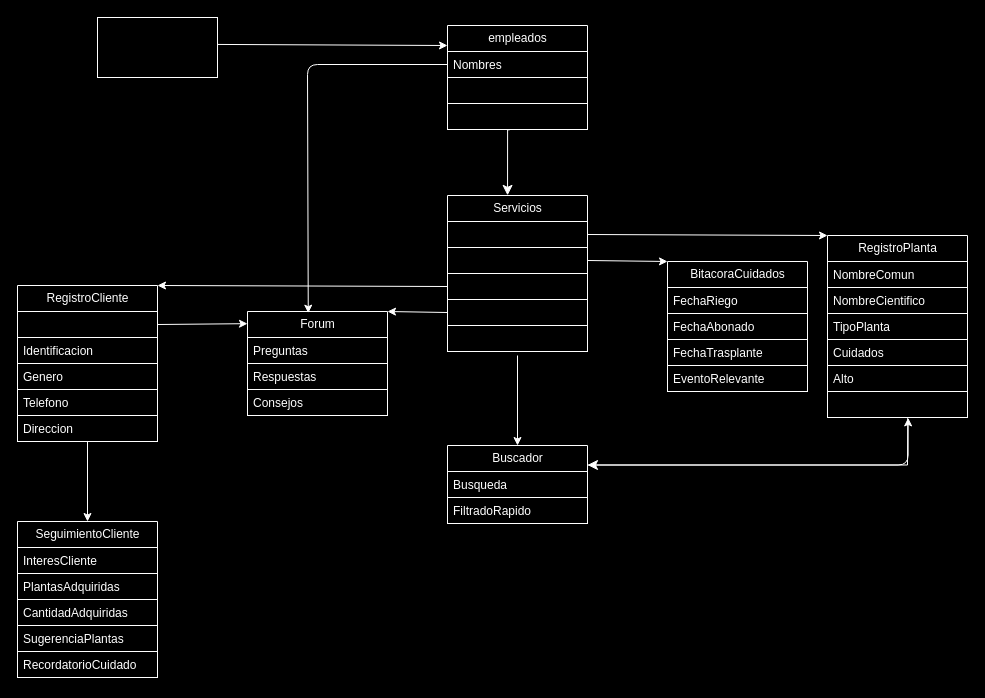
Image size: 985x698. Some labels were removed from this diagram. Each missing label, with the centre of its shape:
Ancho: the point at 897,404
Cargos: the point at 517,116
CategorizacionPlantas: the point at 517,338
Codigos: the point at 517,90
GestionClientes: the point at 517,286
GestionPreguntas: the point at 517,312
IngresarNuevaPlanta: the point at 517,234
NombreCliente: the point at 87,324
SeguimientoPlanta: the point at 517,260
ViveroPlantas: the point at 157,47
